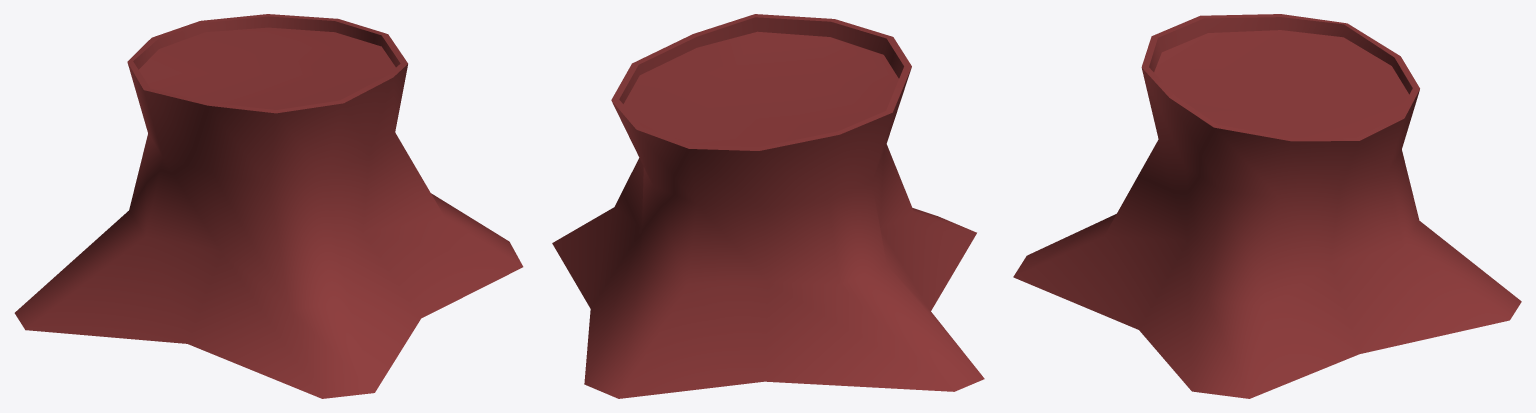
The model's file is Stump2.fbx.
The picture shows the model from 3 angles, left to right: view 1: azimuth 30°, elevation 25°; view 2: azimuth 150°, elevation 25°; view 3: azimuth 270°, elevation 25°; orthographic projection. The views are drawn at different scales.
Parts seen in each view (by area): view 1: Stump2; view 2: Stump2; view 3: Stump2.
Boxes of the visible parts, bbox=[...] form: Stump2: bbox=[14, 14, 523, 398]; Stump2: bbox=[552, 14, 984, 398]; Stump2: bbox=[1013, 14, 1521, 398].
Size of the model in its own units: 4.94 by 4.93 by 2.44.
